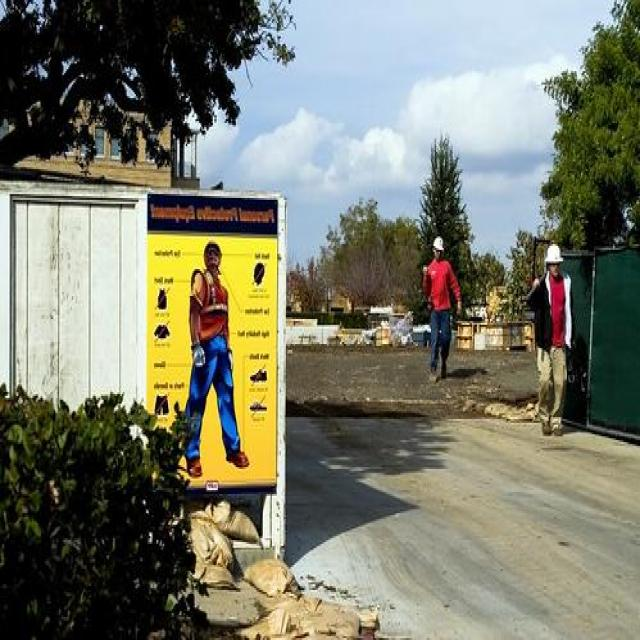Reflective-Jacket: (536, 273, 571, 352), (424, 260, 456, 317)
Safety-Helmet: (544, 240, 566, 267), (431, 232, 448, 254)
